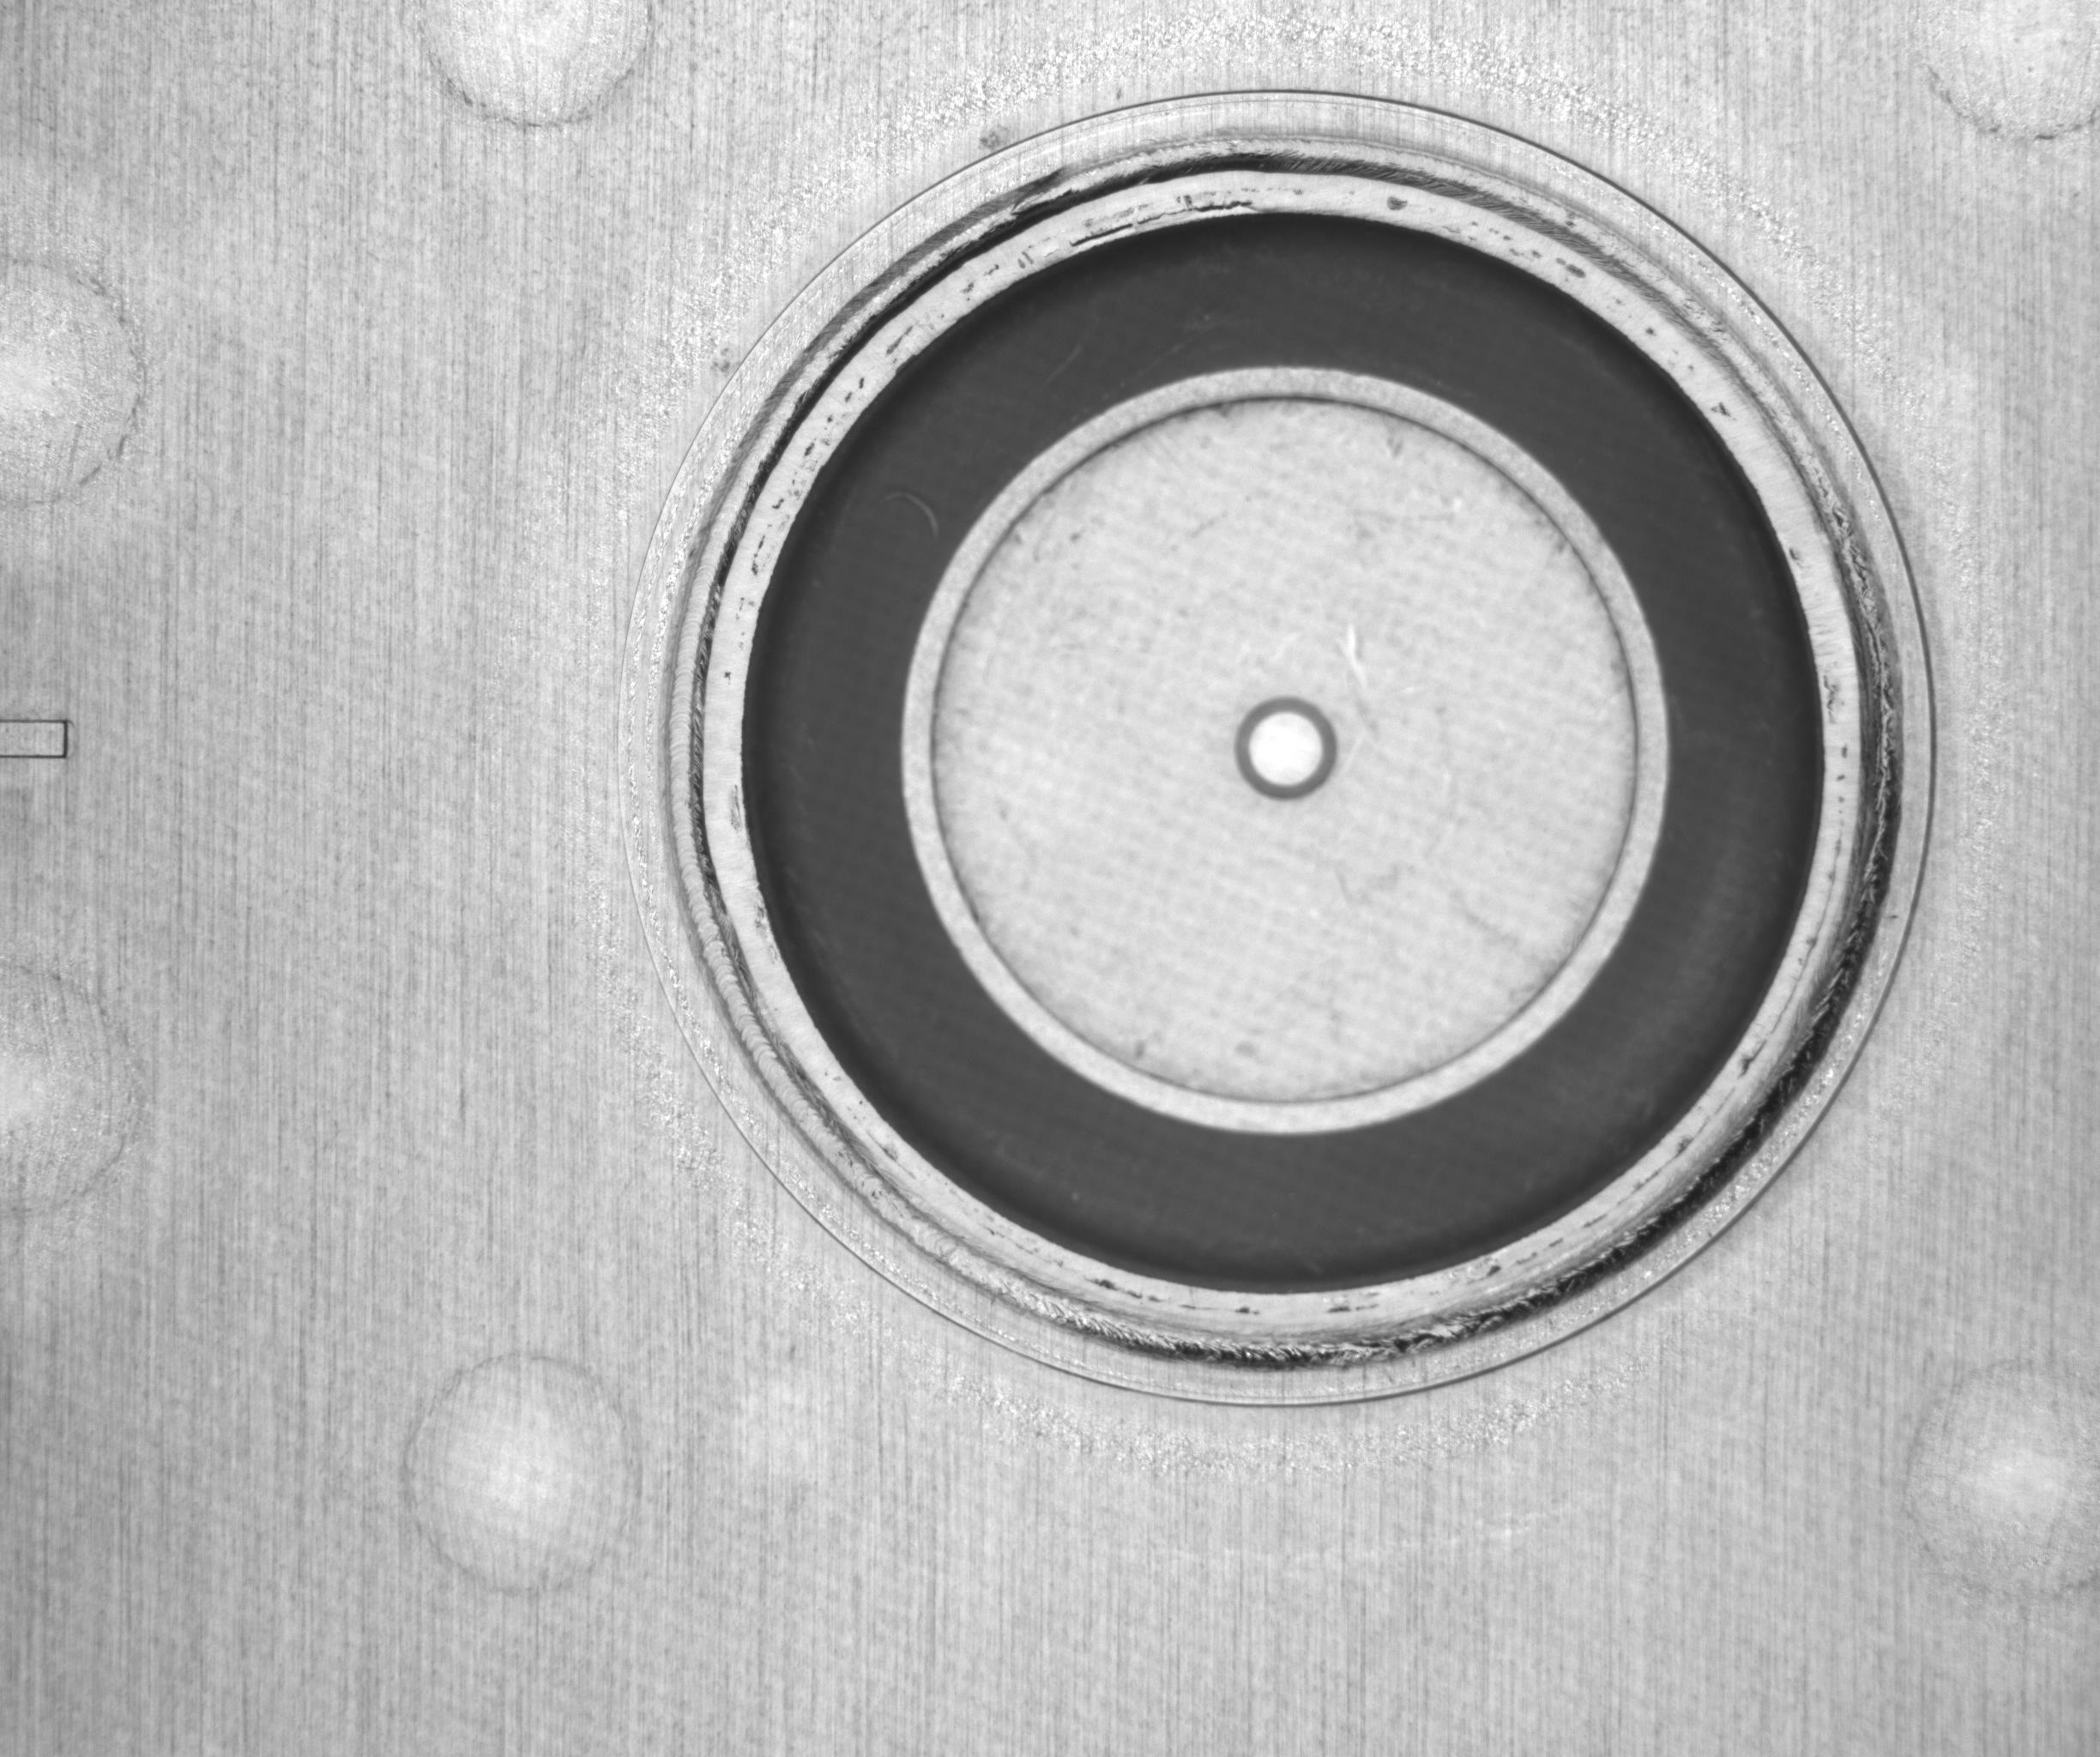weldtoohigh: (633, 66, 1969, 1403)
